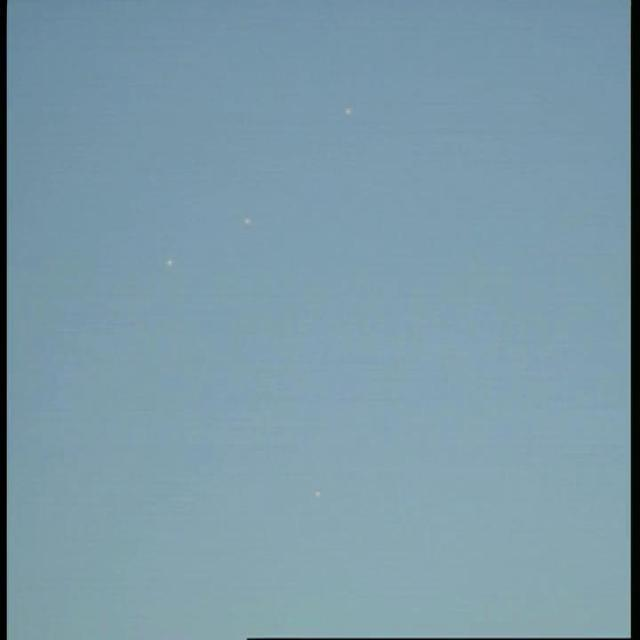drone: (342, 101, 356, 120), (162, 252, 178, 268), (310, 484, 324, 502), (240, 214, 255, 230)
